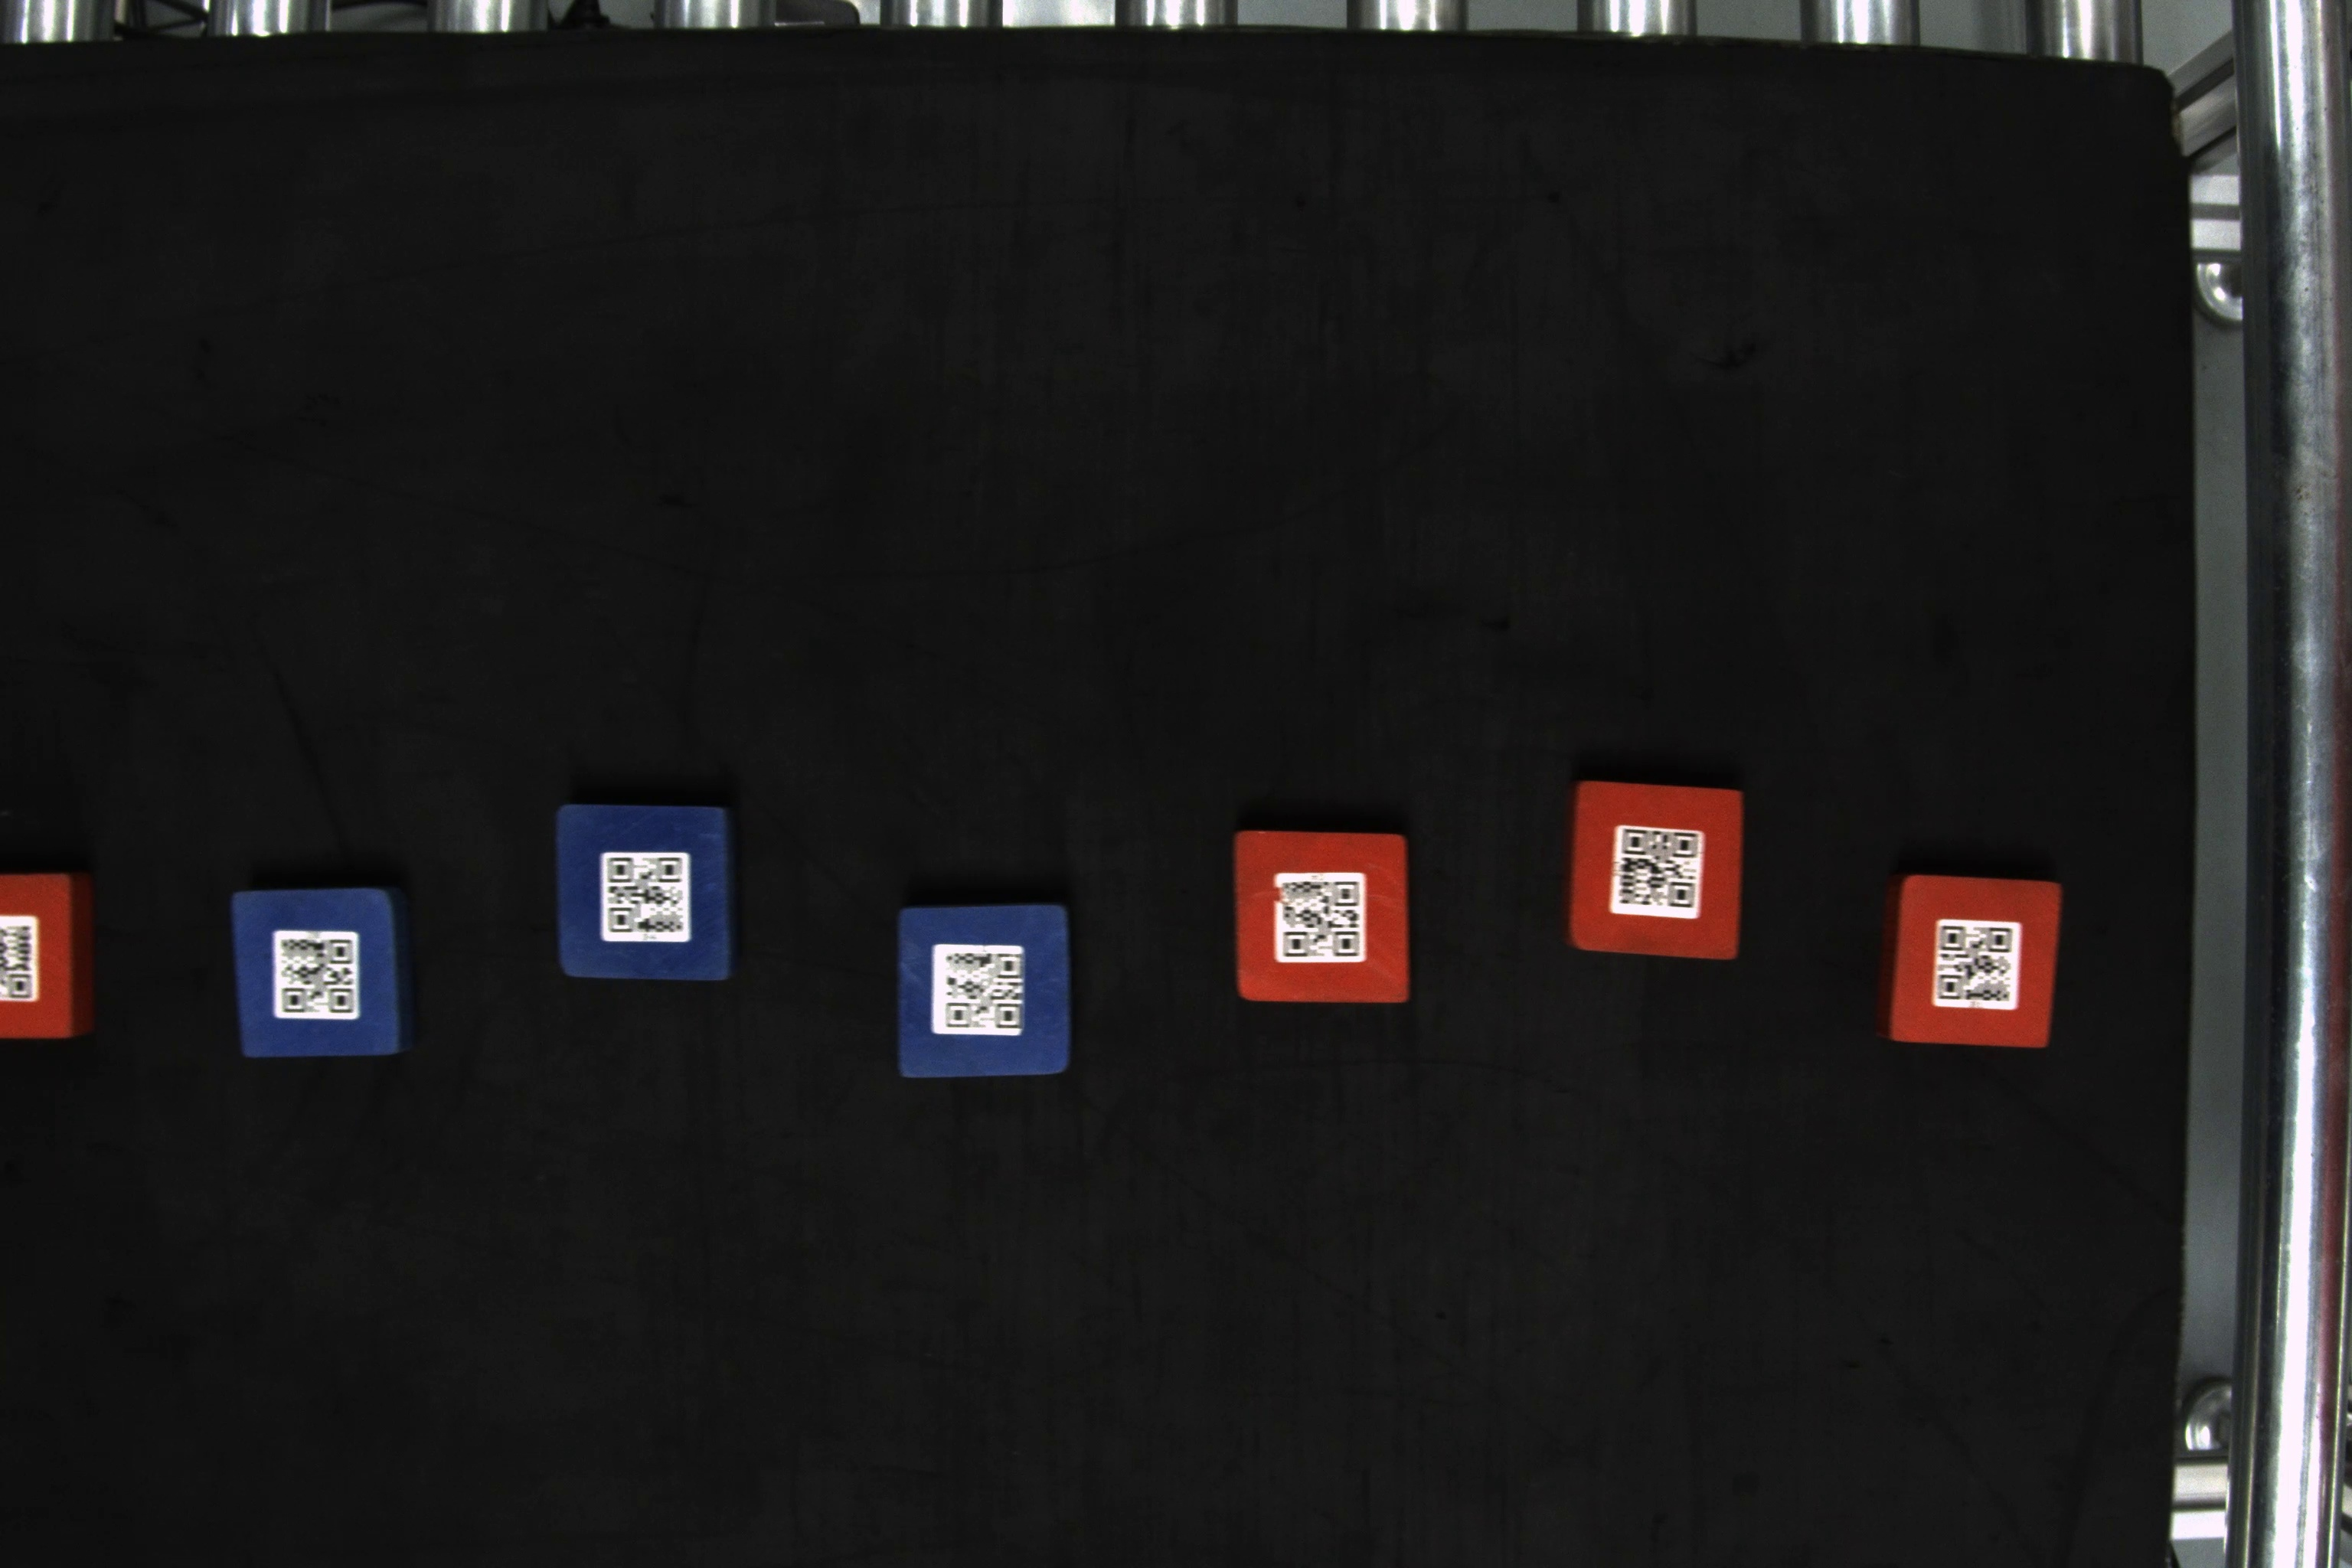wood: (549, 793, 747, 989), (892, 898, 1088, 1087), (224, 871, 409, 1071), (1570, 775, 1750, 962), (1228, 826, 1417, 1004), (1881, 868, 2067, 1048), (2, 870, 96, 1045)
